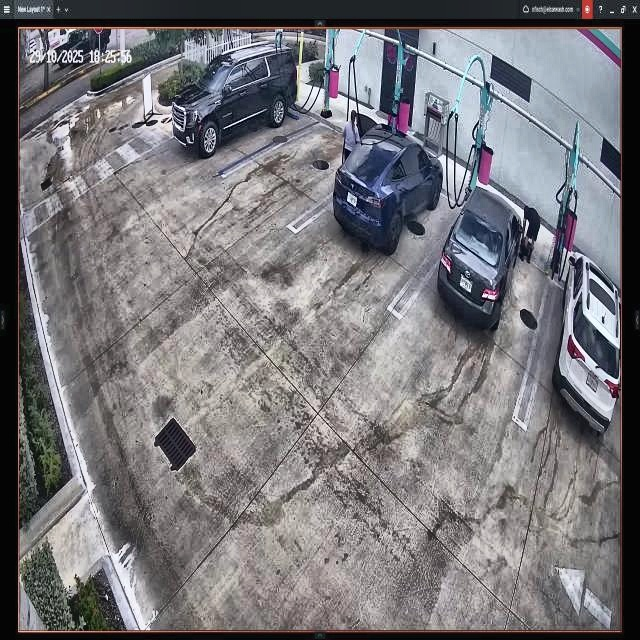Car: (332, 116, 443, 246), (440, 188, 522, 326)
